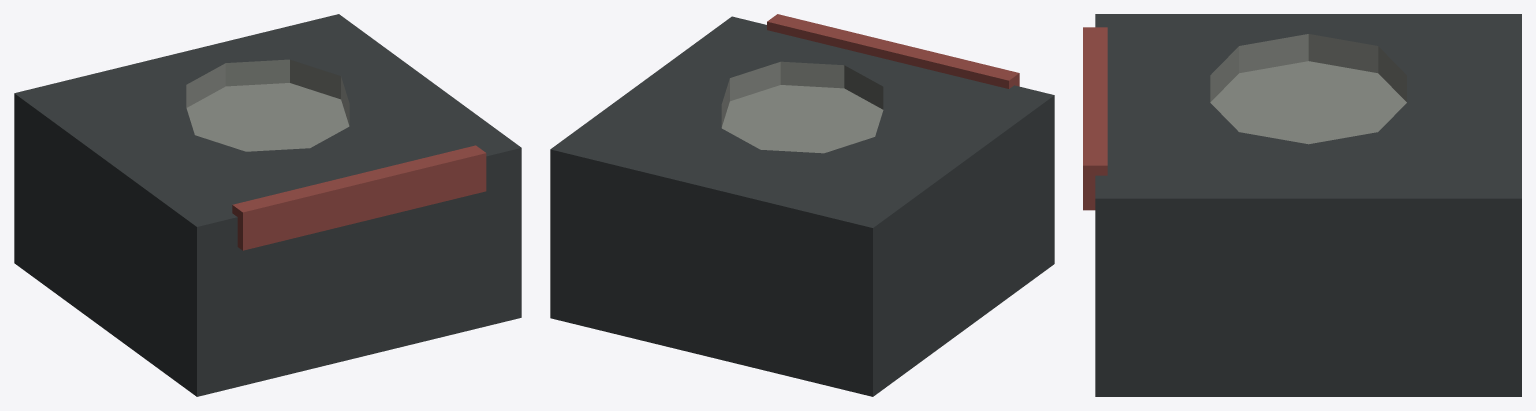
The model's file is beer_mats.glb.
The picture shows the model from 3 angles, left to right: view 1: azimuth 30°, elevation 25°; view 2: azimuth 150°, elevation 25°; view 3: azimuth 270°, elevation 25°; orthographic projection. The views are drawn at different scales.
Visible parts, largest first — view 1: body; view 2: body; view 3: body.
Part boxes in pixels (x1,y1,x2,y2): body: (14, 14, 521, 396); body: (550, 14, 1054, 396); body: (1083, 14, 1521, 396).
Size of the model in its own units: 0.32 by 0.185 by 0.321.
Materials: 1 (1 with a texture image).
